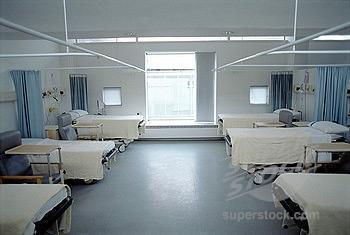Cama: (275, 173, 349, 226), (224, 120, 343, 152), (4, 183, 74, 233), (29, 137, 113, 168), (75, 110, 144, 131), (219, 110, 281, 124)
Ventana: (144, 49, 217, 128)
